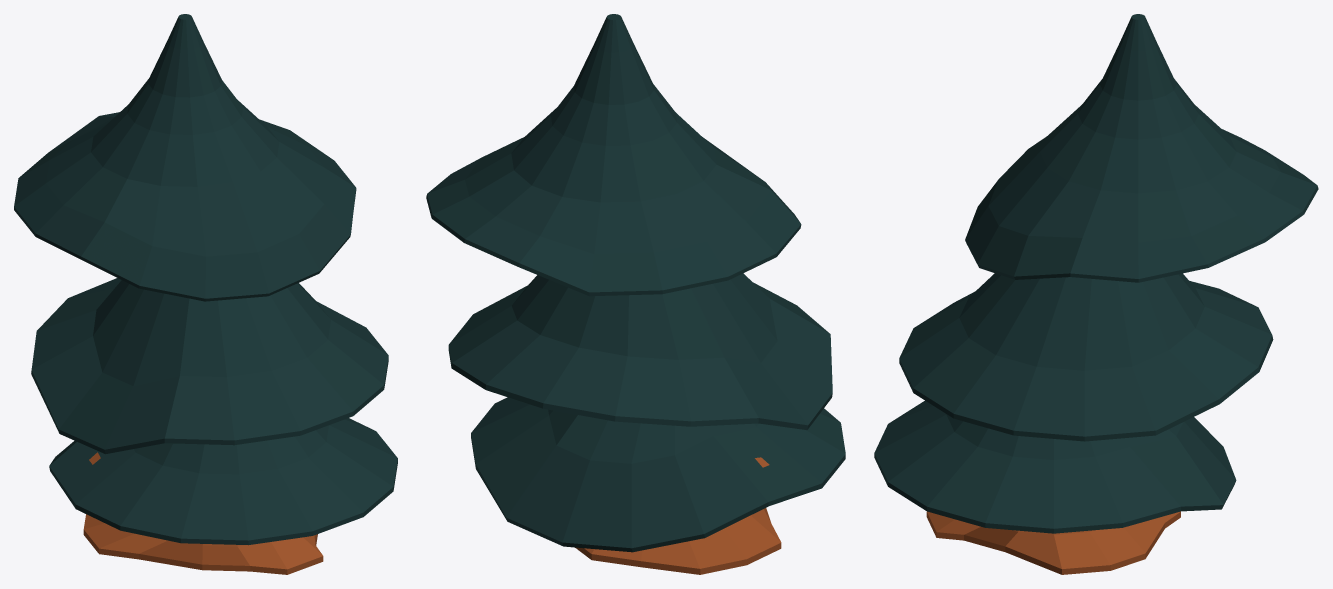
The model's file is _rvore.fbx.
3 views of the same model, side by side, from view 1: azimuth 30°, elevation 25°; view 2: azimuth 150°, elevation 25°; view 3: azimuth 270°, elevation 25° (orthographic). The views are drawn at different scales.
Visible parts, largest first — view 1: Cylinder; view 2: Cylinder; view 3: Cylinder.
Boxes of the visible parts, x1,y1,x2,y2 form: Cylinder: (14,14,397,574); Cylinder: (426,14,845,574); Cylinder: (874,14,1318,574).
Bounding box in the file's own units: 423 × 635 × 511.
